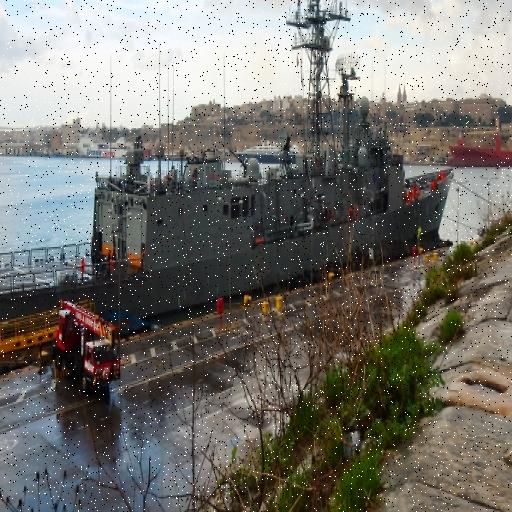Fragata: (1, 1, 458, 387)
